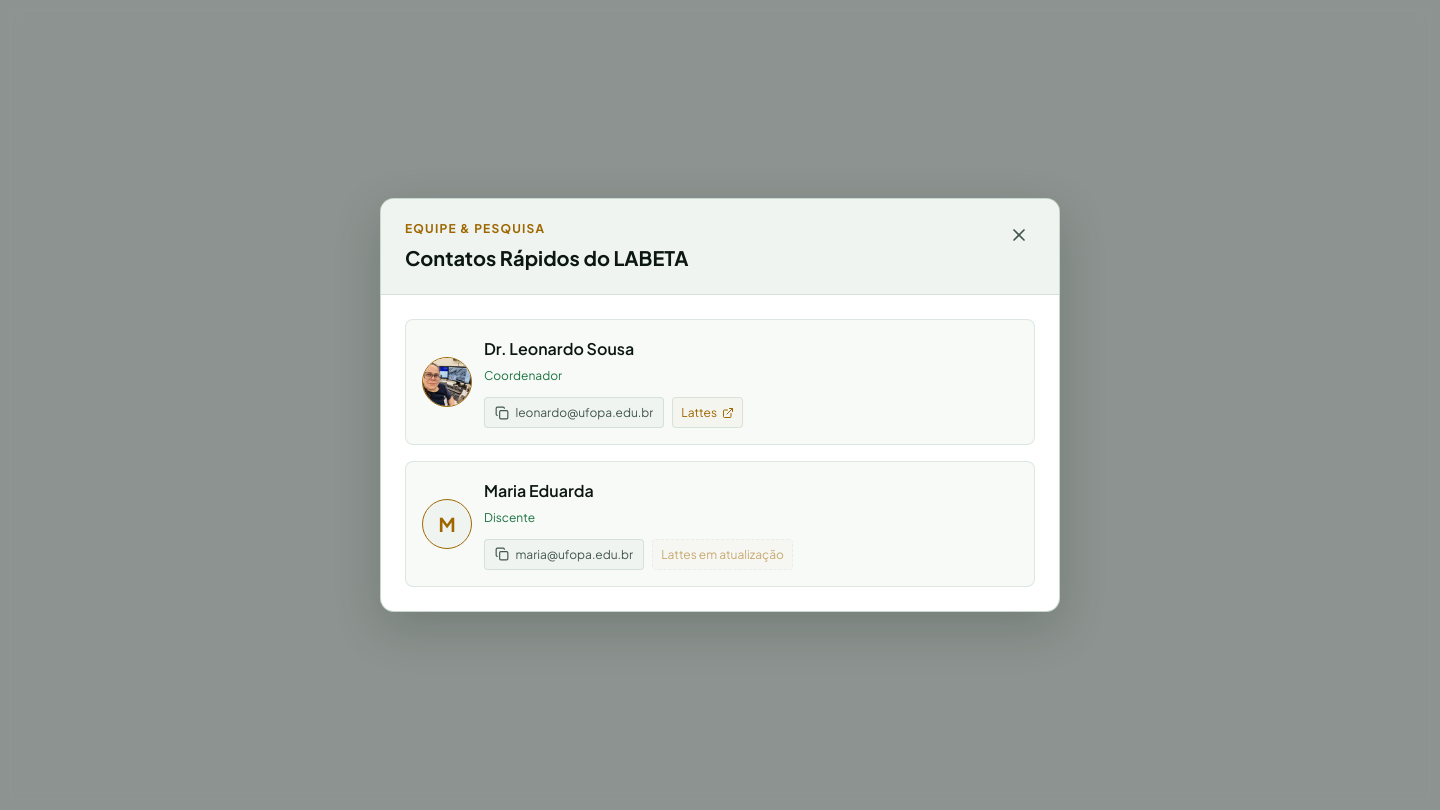
Test: ContactModal Component › handles copying email address to clipboard with feedback
Expected: the heading "Dr. Leonardo Sousa" is shown, [484,338,634,359]
Click the button with aria-label "Copiar e-mail de Dr. Leonardo Sousa".
click(574, 412)  # box [484,397,664,428]
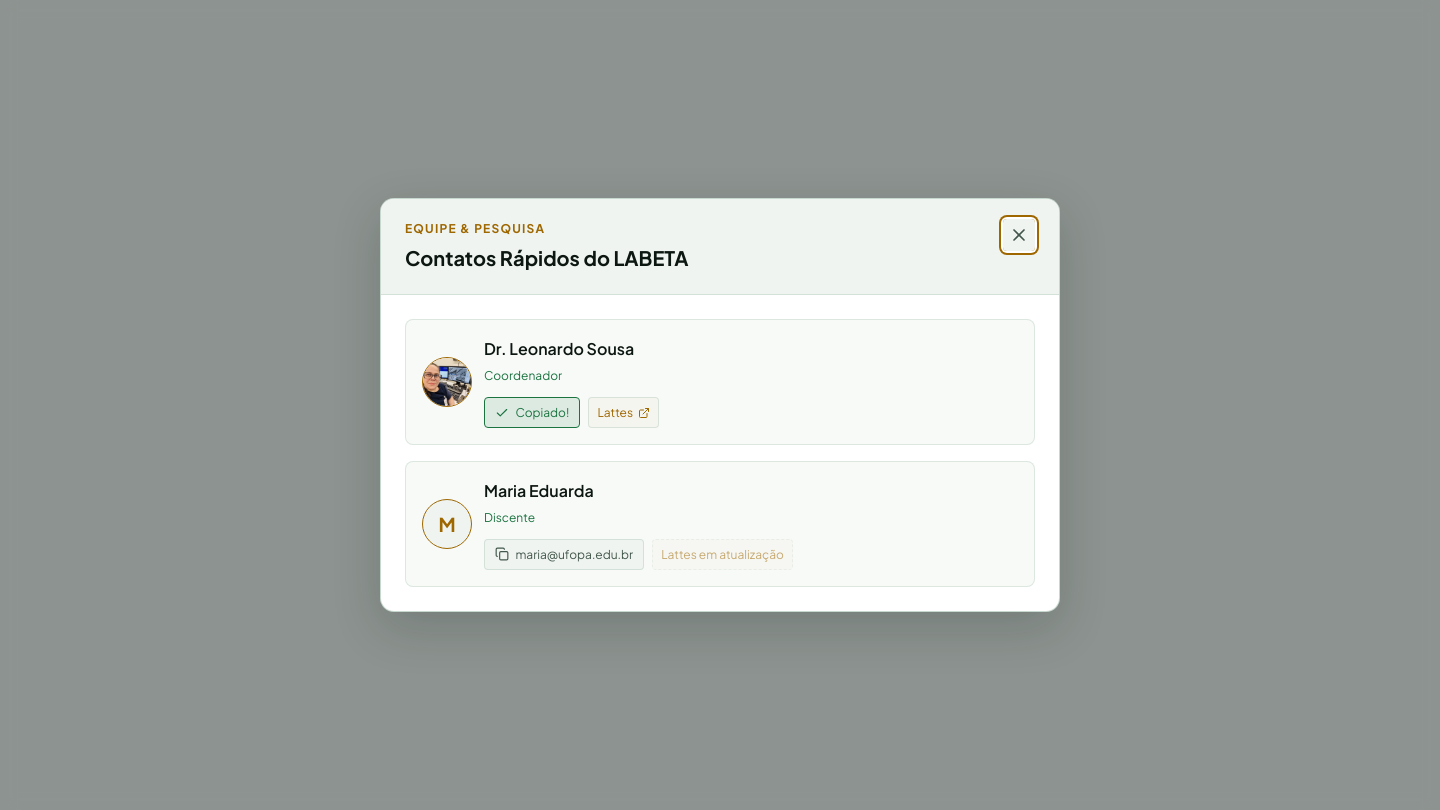
Result: the text "Copiado!" is shown at [515,403,569,422]
